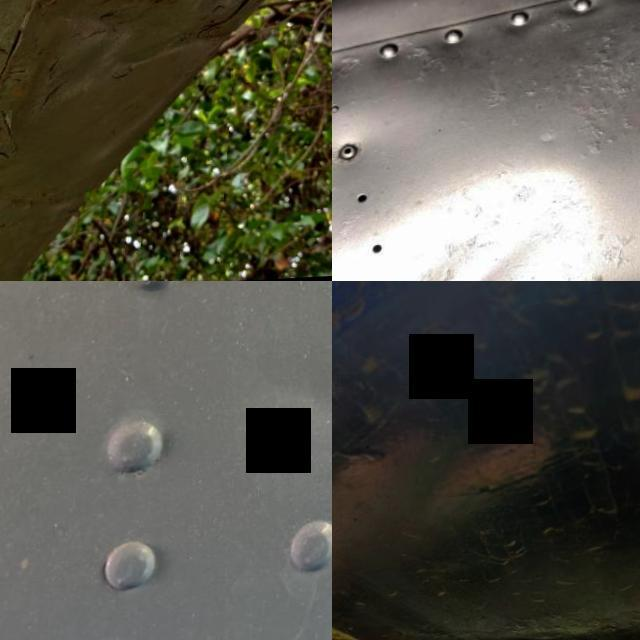Dent: (0, 0, 258, 125), (353, 174, 613, 281), (332, 343, 432, 578), (251, 347, 332, 481)
Missing_Fastener: (0, 113, 19, 149)
